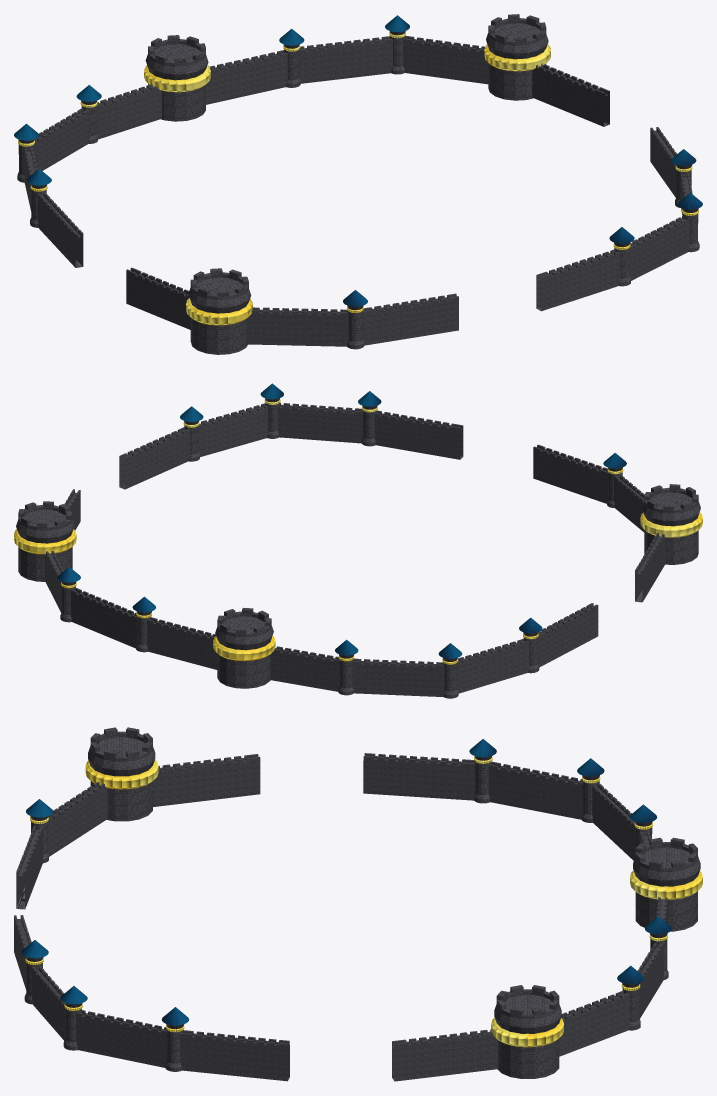
Rendered from muralha_Part1_IATT.fbx.
3 views of the same model, one above another, from view 1: azimuth 30°, elevation 25°; view 2: azimuth 150°, elevation 25°; view 3: azimuth 270°, elevation 25° (orthographic). The views are drawn at different scales.
Parts seen in each view (by area): view 1: muralha; view 2: muralha; view 3: muralha.
Boxes of the visible parts, bbox=[...] form: muralha: bbox=[14, 14, 702, 354]; muralha: bbox=[14, 383, 702, 698]; muralha: bbox=[14, 727, 702, 1081].
Bounding box in the file's own units: 25419 × 2752 × 25361.
59 materials, 59 textured.
